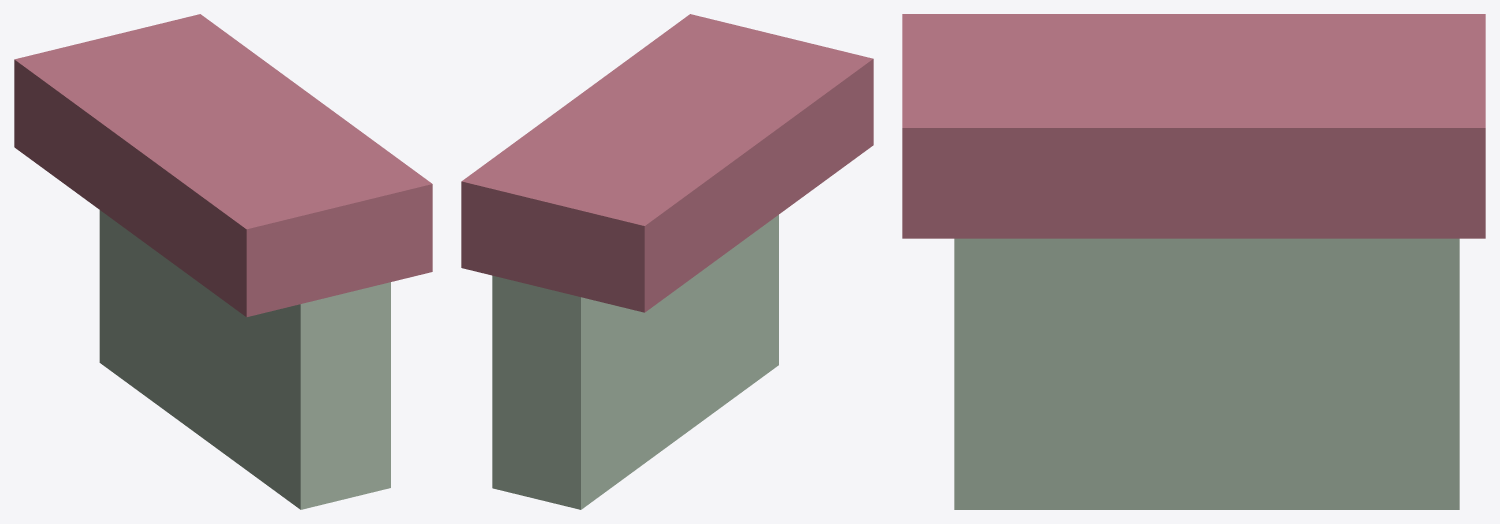
3 renders of one model, left to right at view 1: azimuth 30°, elevation 25°; view 2: azimuth 150°, elevation 25°; view 3: azimuth 270°, elevation 25°, orthographic. The views are drawn at different scales.
Visible parts, largest first — view 1: world; view 2: world; view 3: world.
Part boxes in pixels (left/top/right/bottom): world: left=14, top=14, right=432, bottom=509; world: left=461, top=14, right=873, bottom=509; world: left=902, top=14, right=1485, bottom=509.
Size of the model in its own units: 3.1 by 5 by 6.7.
